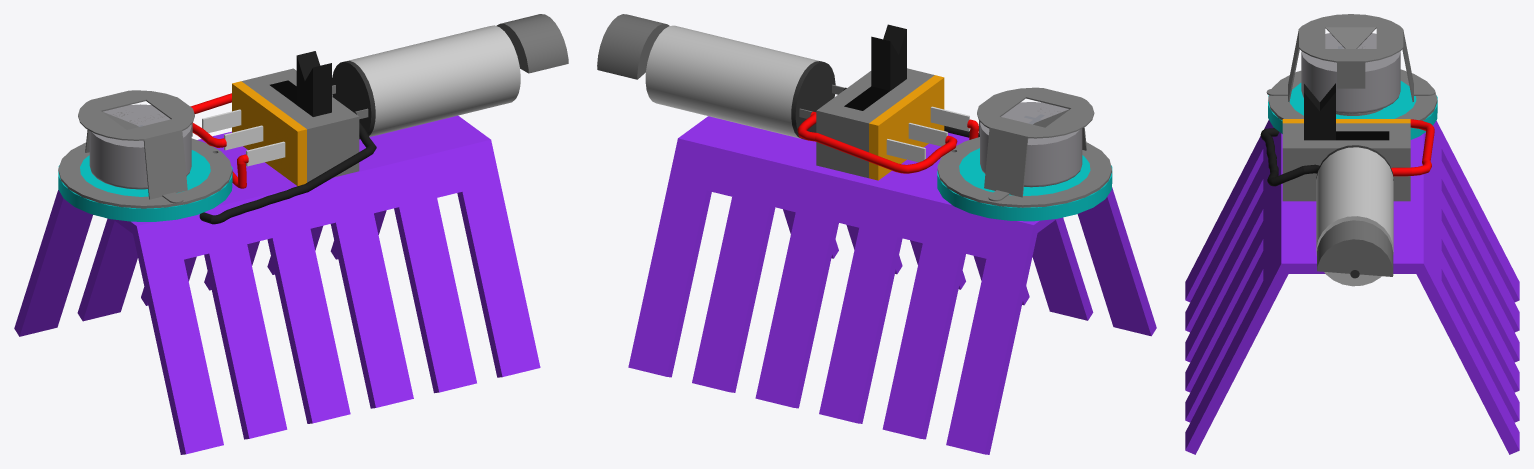
Rendered from cafard.gltf.
The picture shows the model from 3 angles, left to right: view 1: azimuth 30°, elevation 25°; view 2: azimuth 150°, elevation 25°; view 3: azimuth 270°, elevation 25°; orthographic projection. The views are drawn at different scales.
Parts seen in each view (by area): view 1: object 2, object 17, object 3, object 13, object 6, object 5, object 11, object 4, object 1, object 18, object 14, object 12 (+1 smaller); view 2: object 2, object 17, object 3, object 13, object 5, object 6, object 4, object 11, object 18, object 14, object 1, object 12 (+1 smaller); view 3: object 2, object 17, object 3, object 13, object 6, object 18, object 14, object 1, object 4, object 5, object 11.
Boxes of the visible parts, x1,y1,x2,y2 form: object 2: (14, 115, 540, 454); object 17: (346, 25, 520, 136); object 3: (78, 90, 194, 203); object 13: (241, 68, 359, 182); object 6: (89, 104, 191, 189); object 5: (58, 150, 232, 221); object 11: (232, 81, 306, 186); object 4: (58, 138, 232, 208); object 1: (190, 93, 376, 224); object 18: (496, 14, 568, 73); object 14: (270, 51, 331, 116); object 12: (202, 109, 285, 166); object 2: (628, 116, 1156, 454); object 17: (645, 25, 818, 138); object 3: (977, 87, 1094, 201); object 13: (816, 68, 934, 178); object 5: (937, 148, 1112, 221); object 6: (980, 102, 1082, 187); object 4: (937, 137, 1111, 207); object 11: (869, 75, 944, 180); object 18: (597, 14, 669, 79); object 14: (844, 24, 906, 110); object 1: (797, 87, 979, 173); object 12: (886, 106, 969, 162); object 2: (1185, 120, 1519, 454); object 17: (1316, 147, 1393, 286); object 3: (1266, 14, 1435, 102); object 13: (1282, 123, 1410, 201); object 6: (1301, 33, 1400, 113); object 18: (1317, 220, 1393, 278); object 14: (1304, 83, 1389, 140); object 1: (1260, 119, 1434, 186); object 4: (1268, 69, 1437, 120); object 5: (1268, 81, 1437, 139); object 11: (1282, 119, 1410, 123).
Bounding box in the file's own units: 3.8 × 2.27 × 2.35.
